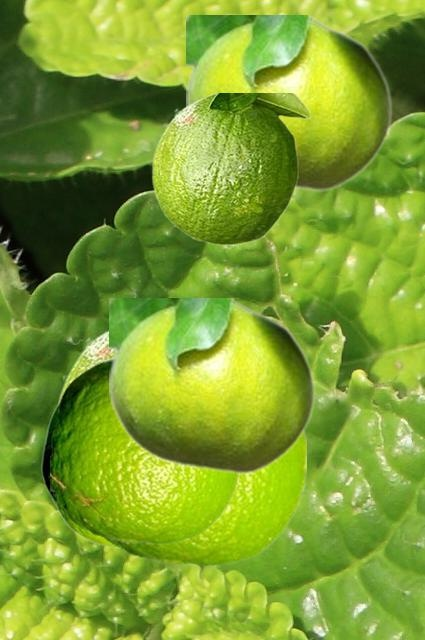dalandan: (186, 15, 392, 191), (109, 298, 315, 474), (50, 354, 239, 543), (99, 433, 305, 565), (151, 93, 310, 244), (41, 366, 115, 547), (56, 327, 113, 401)
